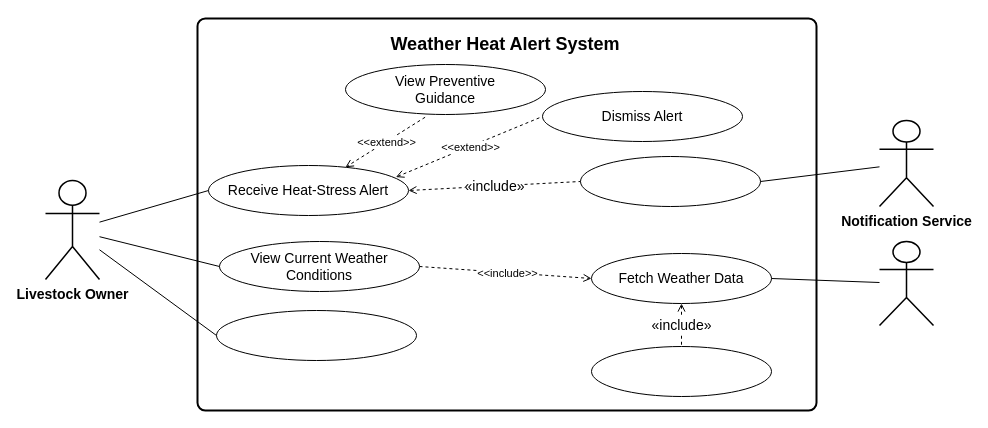
Some shapes in this 988 by 428 pixel diagram are drawn without their labels. The centre of each missing label's shape, as x and y in pixels:
Calculate Heat Index: (681,371)
Send Push Notification: (670,181)
View Alert History: (316,335)
Weather API: (906,283)
